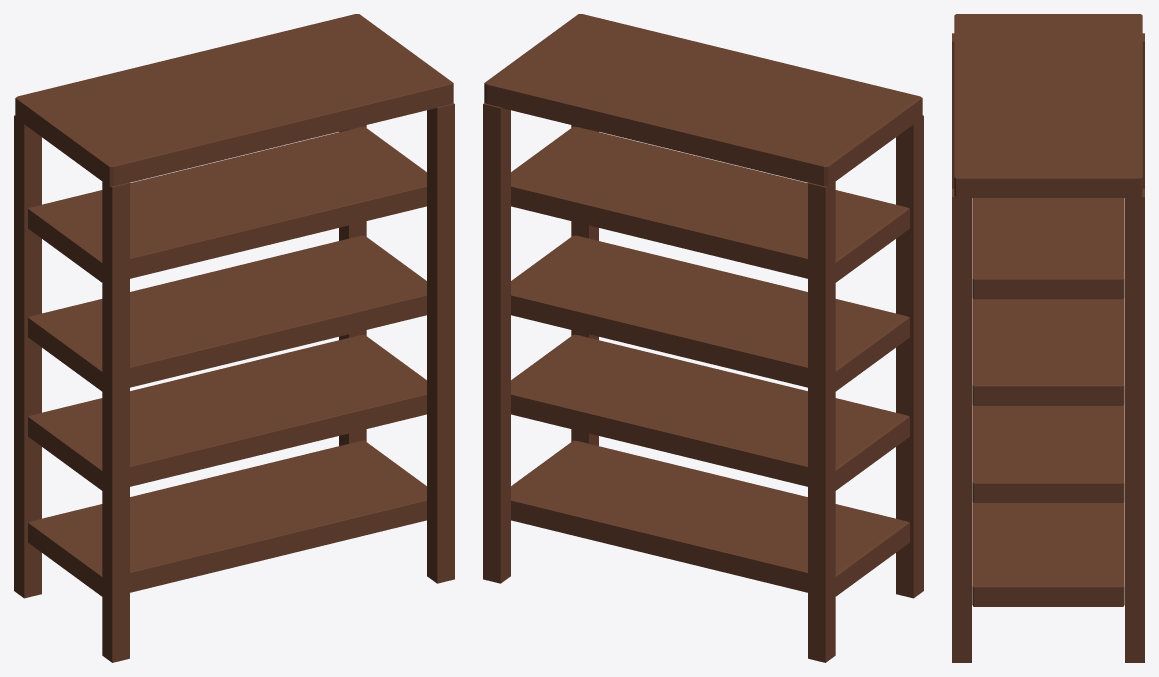
The model's file is EstanteDispensa.fbx.
3 renders of one model, left to right at view 1: azimuth 30°, elevation 25°; view 2: azimuth 150°, elevation 25°; view 3: azimuth 270°, elevation 25°, orthographic. The views are drawn at different scales.
Visible parts, largest first — view 1: Cube.005, Cube, Cube.003, Cube.004, Cube.001, Cube.002; view 2: Cube.005, Cube, Cube.003, Cube.004, Cube.001, Cube.002; view 3: Cube.005, Cube, Cube.003, Cube.001, Cube.004, Cube.002.
Boxes of the visible parts, x1,y1,x2,y2 form: Cube.005: (15,14,453,186); Cube: (14,103,454,662); Cube.003: (28,235,426,391); Cube.004: (28,126,426,282); Cube.001: (28,440,426,596); Cube.002: (28,334,426,490); Cube.005: (484,14,922,186); Cube: (483,103,923,662); Cube.003: (511,235,909,391); Cube.004: (511,126,909,282); Cube.001: (511,440,909,596); Cube.002: (511,334,909,490); Cube.005: (954,14,1142,197); Cube: (952,33,1144,662); Cube.003: (972,298,1124,405); Cube.001: (972,502,1124,606); Cube.004: (972,198,1124,299); Cube.002: (972,404,1124,502).
Bounding box in the file's own units: 204 × 281 × 101.
